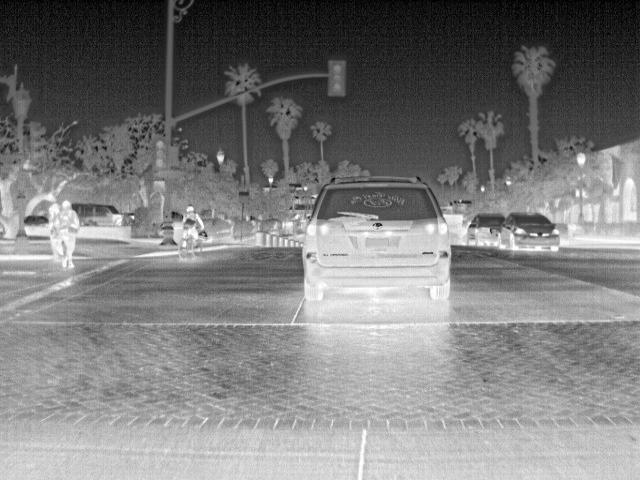car: (298, 175, 455, 306), (496, 212, 563, 254), (73, 200, 138, 228), (466, 211, 508, 250), (22, 213, 53, 238)
person: (59, 199, 79, 268), (180, 205, 207, 245), (48, 202, 62, 257)
